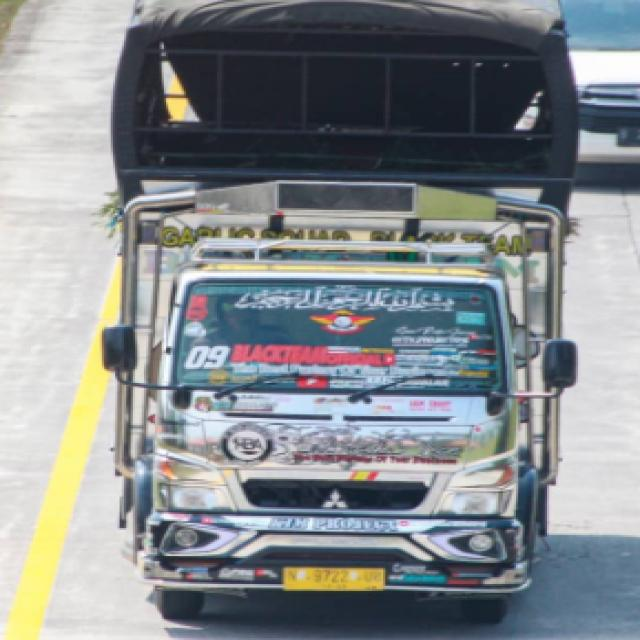truck: (89, 0, 592, 626)
